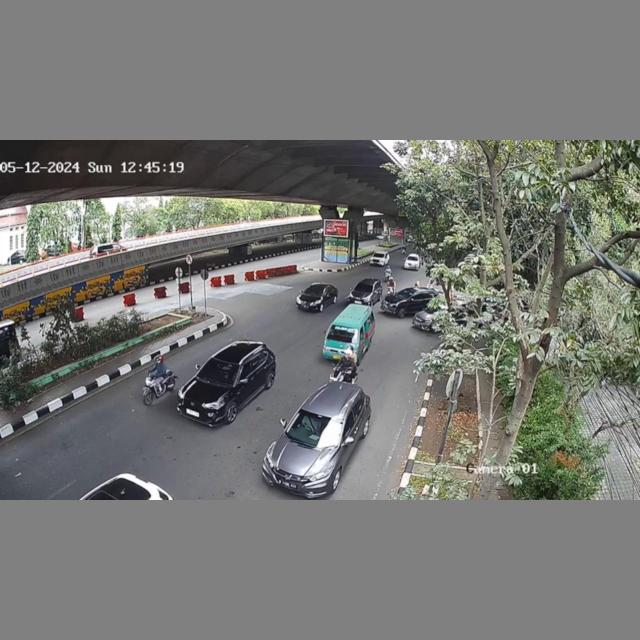windshield: (284, 407, 344, 451), (196, 356, 240, 386), (325, 325, 360, 343)
